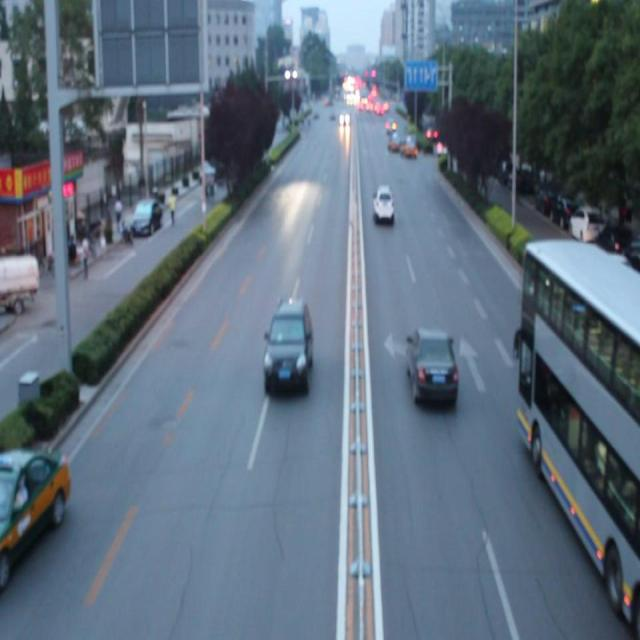car: (0, 440, 72, 590), (262, 297, 316, 394), (406, 324, 458, 408), (371, 182, 395, 227)
van: (518, 236, 640, 619)
